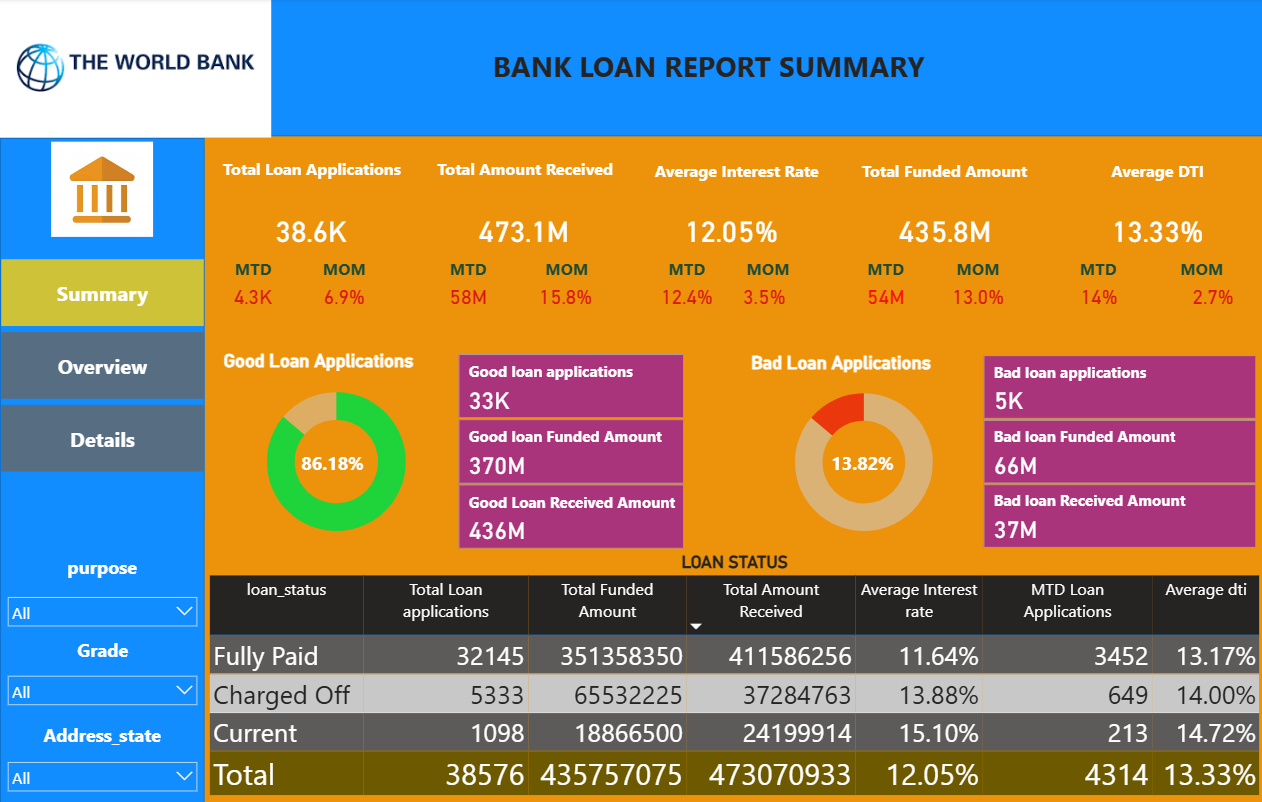

The dashboard page shown, as its layout file describes it:
{"tool":"powerbi","page":{"name":"Summary","canvas":[1670,1066],"ordinal":0},"visuals":[{"type":"shape","box":[0,0,1670.1,182.2],"z":0},{"type":"image","box":[0,0,357.2,184],"z":1000},{"type":"shape","box":[0,184,269.7,882.4],"z":2000},{"type":"image","box":[63.3,184.7,144.3,135.5],"z":3000},{"type":"textbox","box":[635.9,58.9,596.6,62.5],"z":4000},{"type":"card","fields":{"Values":["financial_loan_full.Total Loan applications"]},"box":[269.7,184,280.4,240],"z":5000},{"type":"textbox","box":[271.5,205.4,278.6,48.2],"z":6000},{"type":"card","fields":{"Values":["financial_loan_full.Total Funded Amount"]},"box":[1105.7,184,280.4,240],"z":7000},{"type":"card","fields":{"Values":["financial_loan_full.Average Interest rate"]},"box":[823.4,184,280.4,240],"z":8000},{"type":"card","fields":{"Values":["financial_loan_full.Total Amount Received"]},"box":[550.2,184,280.4,240],"z":9000},{"type":"textbox","box":[1103.9,207.2,282.2,48.2],"z":10000},{"type":"textbox","box":[550.2,205.4,284,50],"z":11000},{"type":"textbox","box":[835.9,207.2,271.5,48.2],"z":12000},{"type":"donutChart","title":"Good Loan Applications","fields":{"Category":["financial_loan_full.loan_status (groups)"],"Y":["financial_loan_full.Total Loan applications"]},"box":[289.4,464.4,307.2,266.1],"z":13000},{"type":"slicer","fields":{"Values":["financial_loan_full.purpose"]},"box":[0,778.8,269.7,60.7],"z":14000},{"type":"textbox","box":[0,728.8,269.7,50],"z":15000},{"type":"slicer","fields":{"Values":["financial_loan_full.grade"]},"box":[0,884.2,269.7,66.1],"z":16000},{"type":"slicer","fields":{"Values":["financial_loan_full.address_state"]},"box":[0,996.7,269.7,69.7],"z":17000},{"type":"textbox","box":[1.8,839.5,267.9,44.7],"z":18000},{"type":"textbox","box":[0,950.3,269.7,46.4],"z":19000},{"type":"pageNavigator","box":[1.8,344.7,267.9,280.4],"z":20000},{"type":"donutChart","title":"Bad Loan Applications","fields":{"Category":["financial_loan_full.loan_status (groups)"],"Y":["financial_loan_full.Total Loan applications"]},"box":[986,466.2,307.2,264.4],"z":21000},{"type":"textbox","box":[1091.4,591.2,98.2,48.2],"z":22000},{"type":"textbox","box":[393,591.2,105.4,51.8],"z":23000},{"type":"cardVisual","fields":{"Data":["financial_loan_full.Bad loan applications","financial_loan_full.Bad loan Funded Amount","financial_loan_full.Bad loan Received Amount"]},"box":[1291.4,466.2,369.7,264.4],"z":24000},{"type":"cardVisual","fields":{"Data":["financial_loan_full.Good loan applications","financial_loan_full.Good loan Funded Amount","financial_loan_full.Good Loan Received Amount"]},"box":[600.2,464.4,307.2,266.1],"z":25000},{"type":"tableEx","title":"LOAN STATUS","fields":{"Values":["financial_loan_full.loan_status","financial_loan_full.Total Loan applications","financial_loan_full.Total Funded Amount","financial_loan_full.Total Amount Received","financial_loan_full.Average Interest rate","financial_loan_full.MTD Loan Applications","financial_loan_full.Average dti"]},"box":[269.7,730.6,1396.8,335.8],"z":26000},{"type":"card","fields":{"Values":["financial_loan_full.Average dti"]},"box":[1386.1,184,280.4,240],"z":27000},{"type":"textbox","box":[1386.1,207.2,280.4,50],"z":28000},{"type":"card","fields":{"Values":["financial_loan_full.MTD Loan Applications"]},"box":[289.4,362.6,87.5,60.7],"z":29000},{"type":"textbox","box":[289.4,337.6,87.5,39.3],"z":30000},{"type":"card","fields":{"Values":["financial_loan_full.MoM Loan Applications"]},"box":[410.8,362.6,87.5,60.7],"z":31000},{"type":"textbox","box":[862.7,337.6,87.5,39.3],"z":32000},{"type":"textbox","box":[573.4,337.6,87.5,39.3],"z":33000},{"type":"textbox","box":[1123.5,337.6,87.5,39.3],"z":34000},{"type":"textbox","box":[1404,337.6,87.5,39.3],"z":35000},{"type":"textbox","box":[410.8,337.6,87.5,39.3],"z":36000},{"type":"textbox","box":[703.8,337.6,87.5,39.3],"z":37000},{"type":"textbox","box":[1246.8,337.6,87.5,39.3],"z":38000},{"type":"textbox","box":[969.9,337.6,87.5,39.3],"z":39000},{"type":"textbox","box":[1541.5,337.6,87.5,39.3],"z":40000},{"type":"card","fields":{"Values":["financial_loan_full.MoM DTI"]},"box":[1555.8,362.6,87.5,60.7],"z":41000},{"type":"card","fields":{"Values":["financial_loan_full.MoM Funded Amount"]},"box":[1246.8,362.6,87.5,60.7],"z":42000},{"type":"card","fields":{"Values":["financial_loan_full.MoM Average int rate"]},"box":[964.5,362.6,87.5,60.7],"z":43000},{"type":"card","fields":{"Values":["financial_loan_full.MoM Received Amount"]},"box":[702,362.6,87.5,60.7],"z":44000},{"type":"card","fields":{"Values":["financial_loan_full.MTD Funded Amount"]},"box":[1123.5,362.6,87.5,60.7],"z":45000},{"type":"card","fields":{"Values":["financial_loan_full.MTD Average rate"]},"box":[862.7,362.6,87.5,60.7],"z":46000},{"type":"card","fields":{"Values":["financial_loan_full.MTD Received Amount"]},"box":[573.4,362.6,87.5,60.7],"z":47000},{"type":"card","fields":{"Values":["financial_loan_full.MTD Average Dti"]},"box":[1411.1,362.6,76.8,60.7],"z":48000}]}

Visuals, with their boxes in screenshot pixels (x1, y1, x2, y2), scaled from the page's 1670x1066 canvas onto the 1262x802 screenshot:
shape: <box>0,0,1261,137</box>
image: <box>0,0,270,138</box>
shape: <box>0,138,204,801</box>
image: <box>48,139,157,241</box>
textbox: <box>481,44,931,91</box>
card - financial_loan_full.Total Loan applications: <box>204,138,416,319</box>
textbox: <box>205,155,416,191</box>
card - financial_loan_full.Total Funded Amount: <box>836,138,1047,319</box>
card - financial_loan_full.Average Interest rate: <box>622,138,834,319</box>
card - financial_loan_full.Total Amount Received: <box>416,138,628,319</box>
textbox: <box>834,156,1047,192</box>
textbox: <box>416,155,630,192</box>
textbox: <box>632,156,837,192</box>
"Good Loan Applications" donutChart: <box>219,349,451,550</box>
slicer - financial_loan_full.purpose: <box>0,586,204,632</box>
textbox: <box>0,548,204,586</box>
slicer - financial_loan_full.grade: <box>0,665,204,715</box>
slicer - financial_loan_full.address_state: <box>0,750,204,801</box>
textbox: <box>1,632,204,665</box>
textbox: <box>0,715,204,750</box>
pageNavigator: <box>1,259,204,470</box>
"Bad Loan Applications" donutChart: <box>745,351,977,550</box>
textbox: <box>825,445,899,481</box>
textbox: <box>297,445,377,484</box>
cardVisual - financial_loan_full.Bad loan applications x financial_loan_full.Bad loan Funded Amount: <box>976,351,1255,550</box>
cardVisual - financial_loan_full.Good loan applications x financial_loan_full.Good loan Funded Amount: <box>454,349,686,550</box>
"LOAN STATUS" tableEx: <box>204,550,1259,801</box>
card - financial_loan_full.Average dti: <box>1047,138,1259,319</box>
textbox: <box>1047,156,1259,194</box>
card - financial_loan_full.MTD Loan Applications: <box>219,273,285,318</box>
textbox: <box>219,254,285,284</box>
card - financial_loan_full.MoM Loan Applications: <box>310,273,377,318</box>
textbox: <box>652,254,718,284</box>
textbox: <box>433,254,499,284</box>
textbox: <box>849,254,915,284</box>
textbox: <box>1061,254,1127,284</box>
textbox: <box>310,254,377,284</box>
textbox: <box>532,254,598,284</box>
textbox: <box>942,254,1008,284</box>
textbox: <box>733,254,799,284</box>
textbox: <box>1165,254,1231,284</box>
card - financial_loan_full.MoM DTI: <box>1176,273,1242,318</box>
card - financial_loan_full.MoM Funded Amount: <box>942,273,1008,318</box>
card - financial_loan_full.MoM Average int rate: <box>729,273,795,318</box>
card - financial_loan_full.MoM Received Amount: <box>530,273,597,318</box>
card - financial_loan_full.MTD Funded Amount: <box>849,273,915,318</box>
card - financial_loan_full.MTD Average rate: <box>652,273,718,318</box>
card - financial_loan_full.MTD Received Amount: <box>433,273,499,318</box>
card - financial_loan_full.MTD Average Dti: <box>1066,273,1124,318</box>
